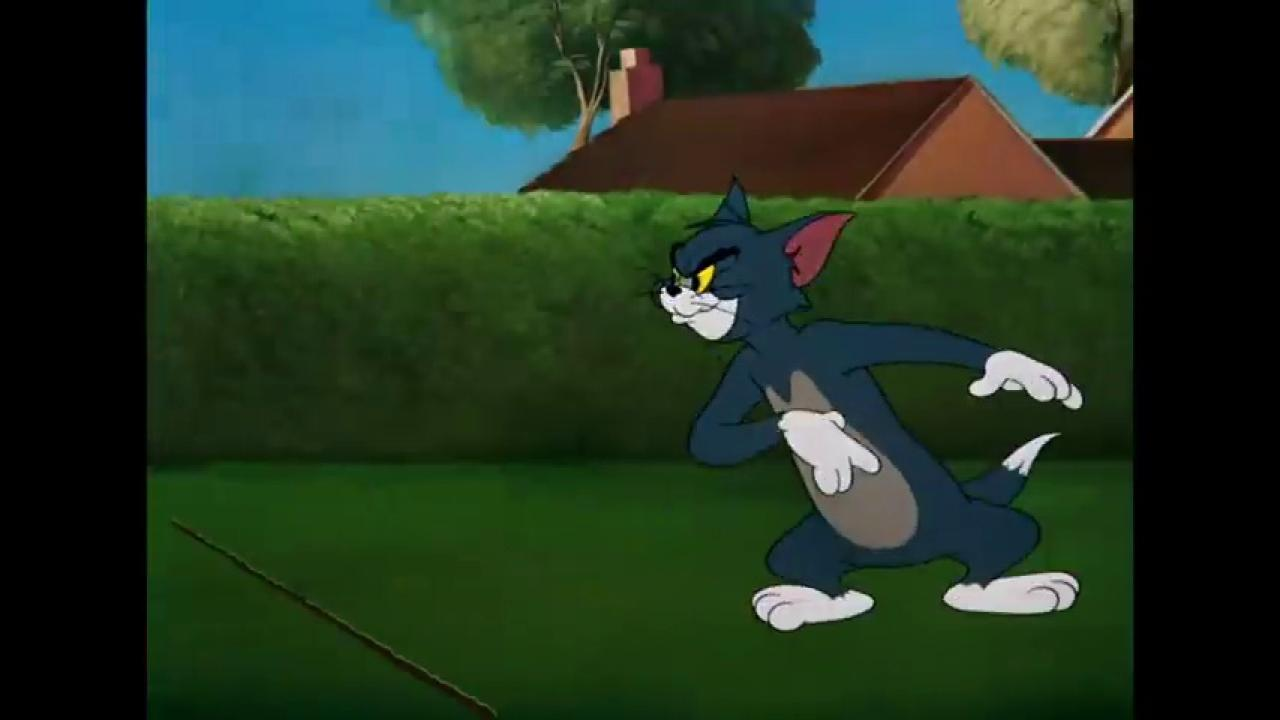Tom: (643, 170, 1086, 635)
